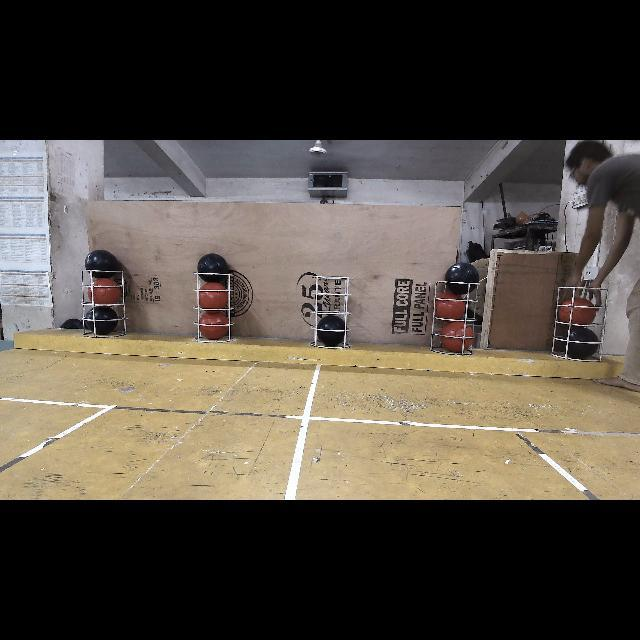P: (445, 262, 480, 295), (562, 328, 598, 358), (85, 250, 119, 279), (85, 308, 119, 334), (198, 254, 228, 283), (317, 318, 347, 346)
R: (440, 322, 472, 350), (562, 298, 594, 326), (200, 312, 230, 340), (434, 294, 464, 322), (198, 284, 228, 310), (88, 281, 120, 305)
S: (548, 275, 606, 359), (78, 261, 132, 341), (424, 269, 478, 349), (190, 266, 240, 346), (310, 266, 352, 346)
